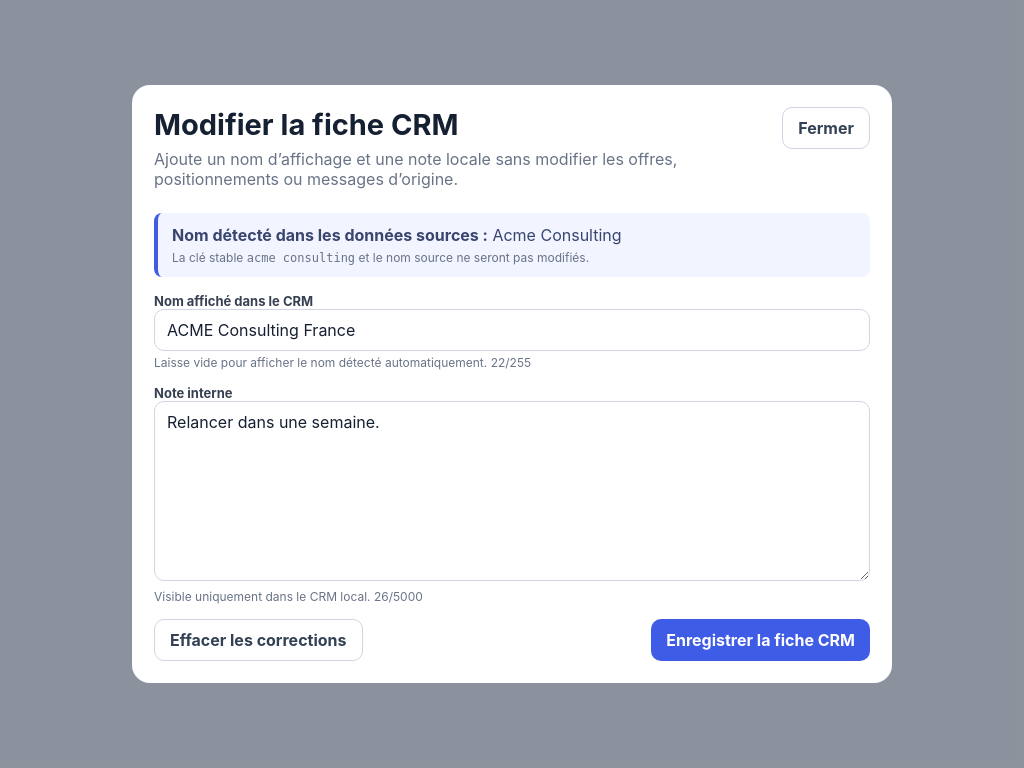
Test case: CrmOrganizationAnnotationEditor › keeps the editor open and exposes a failed save
The width and height of the screenshot is (1024, 768).
Click the button "Enregistrer la fiche CRM".
click(761, 640)  # box x1=651 y1=619 x2=870 y2=661
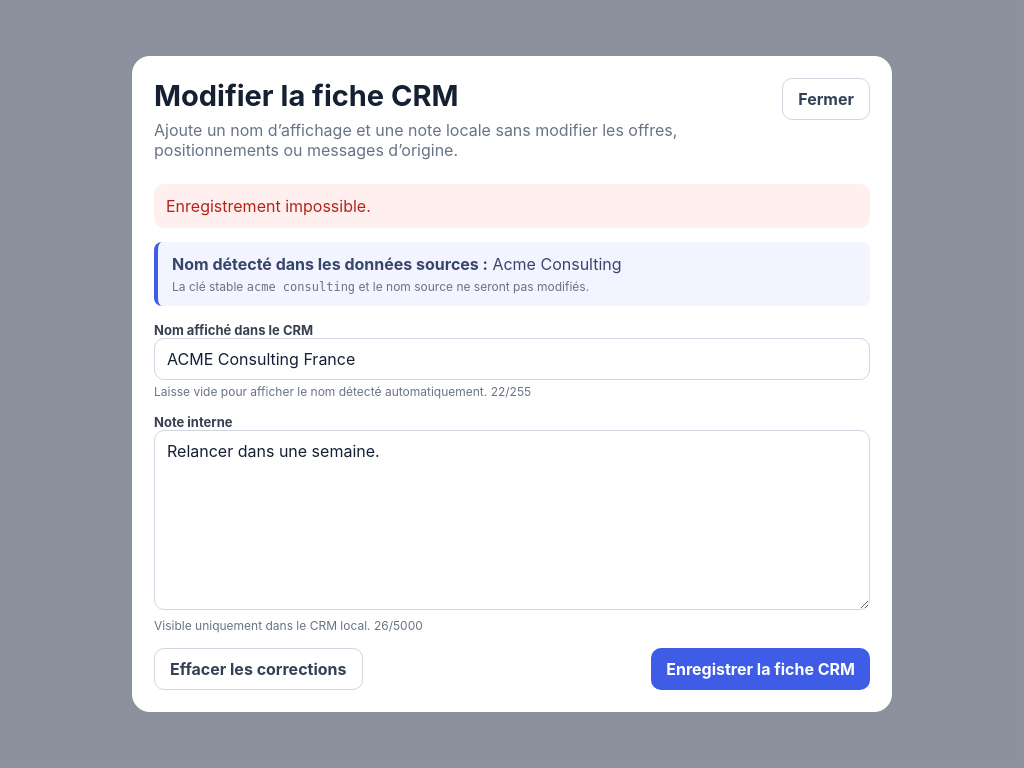
Now the text "Enregistrement impossible." is shown, box x1=154 y1=184 x2=870 y2=228
